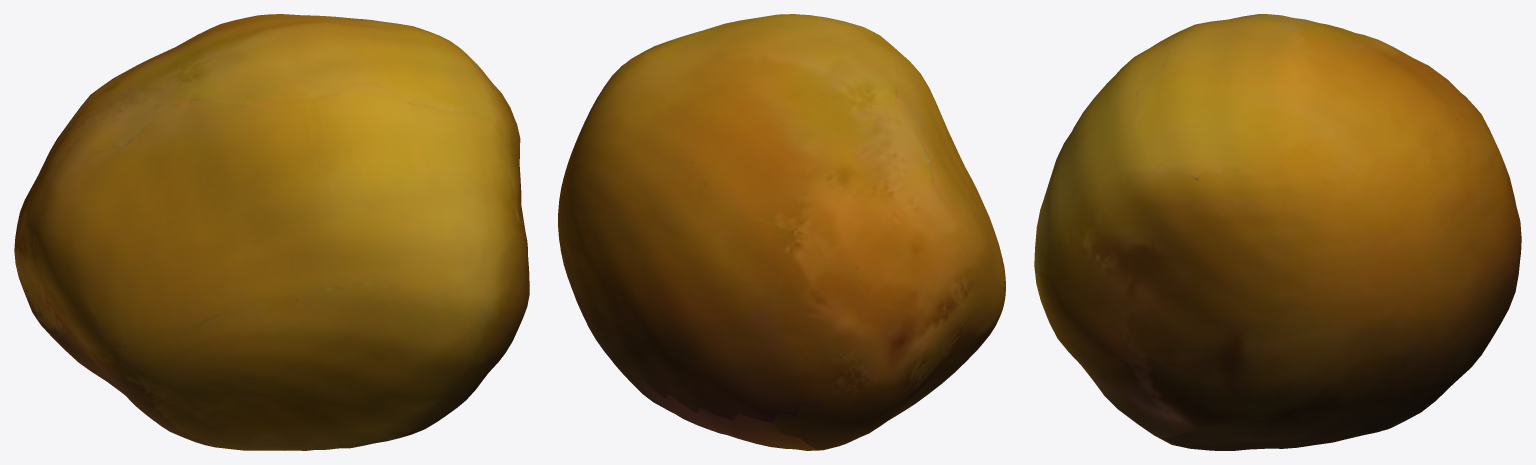
The model's file is fruit_1.glb.
3 views of the same model, side by side, from view 1: azimuth 30°, elevation 25°; view 2: azimuth 150°, elevation 25°; view 3: azimuth 270°, elevation 25° (orthographic). The views are drawn at different scales.
Visible parts, largest first — view 1: w_fruit_1; view 2: w_fruit_1; view 3: w_fruit_1.
Part boxes in pixels (x1,y1,x2,y2): w_fruit_1: (14,14,529,450); w_fruit_1: (558,14,1005,450); w_fruit_1: (1034,14,1521,450).
Size of the model in its own units: 0.0738 by 0.0636 by 0.0722.
Materials: 1 (1 with a texture image).
